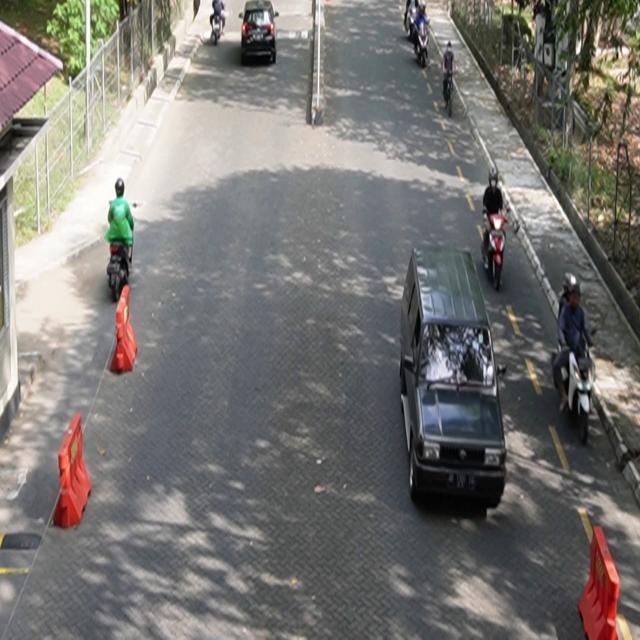car: (400, 246, 508, 509), (239, 1, 279, 64)
